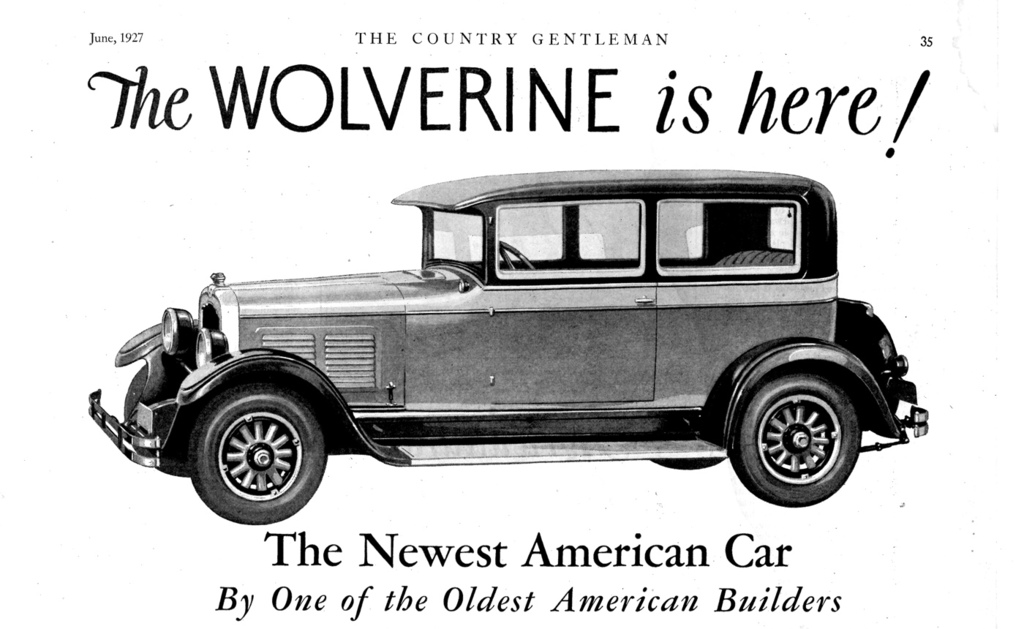Car: (59, 155, 939, 542)
